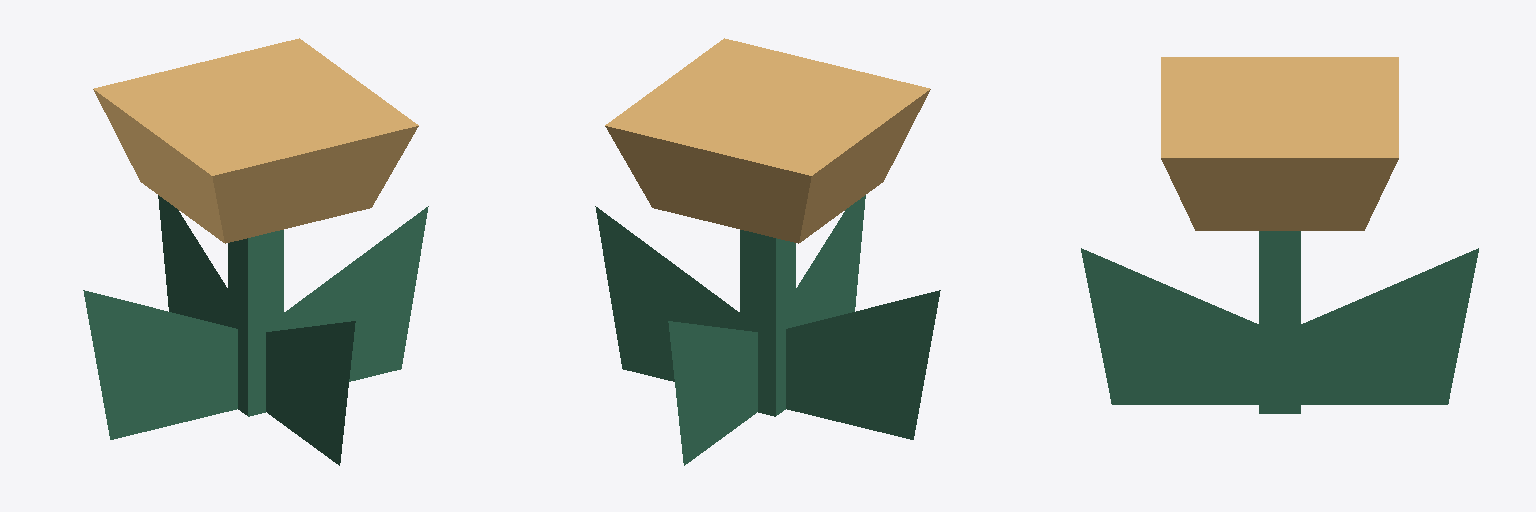
The picture shows the model from 3 angles: view 1: azimuth 30°, elevation 25°; view 2: azimuth 150°, elevation 25°; view 3: azimuth 270°, elevation 25°; orthographic projection.
Visible parts, largest first — view 1: Mesh3 Flower_Yellow Model, Mesh4 Flower_Yellow Model, Mesh1 Flower_Yellow Model, Mesh2 Flower_Yellow Model, Mesh5 Flower_Yellow Model; view 2: Mesh3 Flower_Yellow Model, Mesh4 Flower_Yellow Model, Mesh1 Flower_Yellow Model, Mesh5 Flower_Yellow Model, Mesh2 Flower_Yellow Model; view 3: Mesh3 Flower_Yellow Model, Mesh2 Flower_Yellow Model, Mesh5 Flower_Yellow Model.
Part boxes in pixels (x1,y1,x2,y2): Mesh3 Flower_Yellow Model: (93,38,418,416); Mesh4 Flower_Yellow Model: (83,290,237,439); Mesh1 Flower_Yellow Model: (284,206,428,381); Mesh2 Flower_Yellow Model: (266,321,355,465); Mesh5 Flower_Yellow Model: (158,195,227,325); Mesh3 Flower_Yellow Model: (605,38,930,416); Mesh4 Flower_Yellow Model: (786,290,940,439); Mesh1 Flower_Yellow Model: (595,206,739,381); Mesh5 Flower_Yellow Model: (668,321,757,465); Mesh2 Flower_Yellow Model: (796,195,865,325); Mesh3 Flower_Yellow Model: (1161,57,1398,413); Mesh2 Flower_Yellow Model: (1081,248,1258,404); Mesh5 Flower_Yellow Model: (1301,248,1478,404).
Bounding box in the file's own units: 0.4859 × 0.4 × 0.4859.
1 materials, 1 textured.